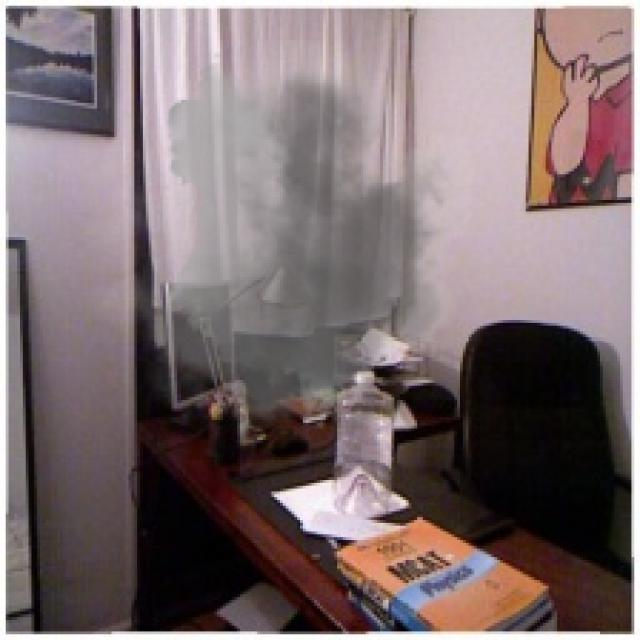smoke: (83, 37, 494, 443)
